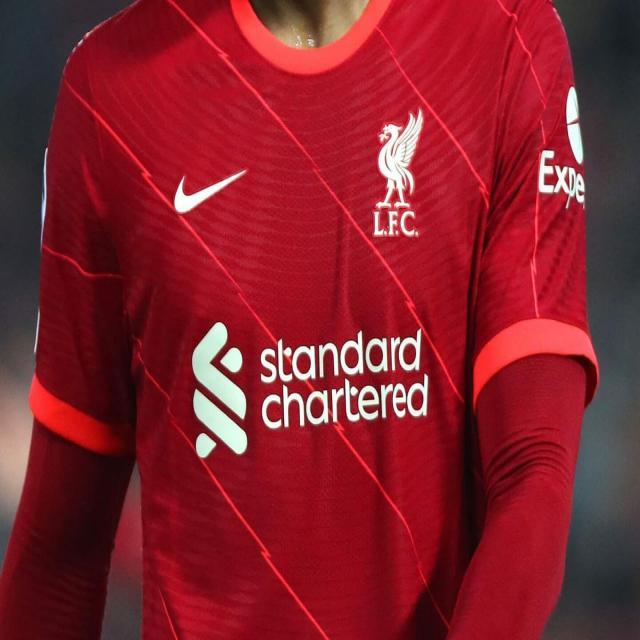Nike: (176, 169, 246, 212)
Standard Chartered: (191, 320, 428, 446)
